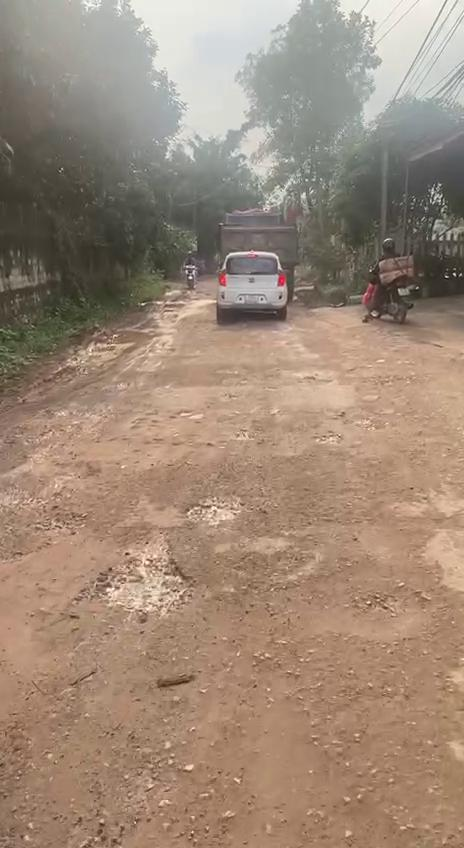pothole: (286, 563, 440, 641), (0, 463, 98, 558), (88, 550, 200, 624), (186, 493, 250, 529), (312, 434, 343, 447)
